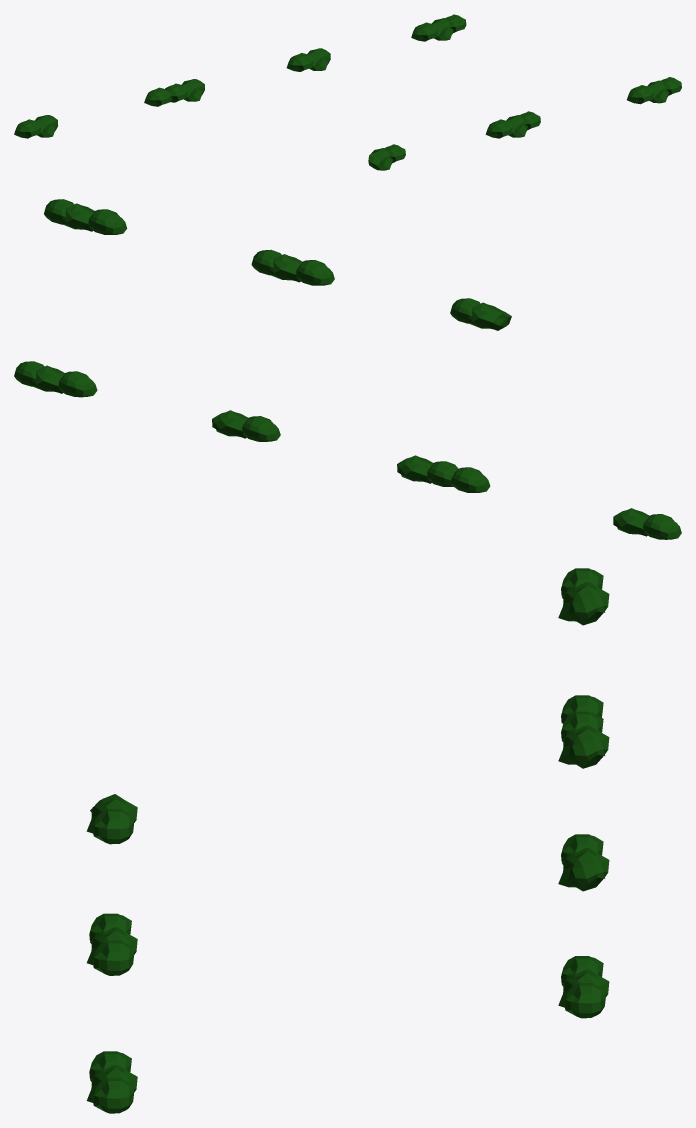
The model's file is arbustos.obj.
The picture shows the model from 3 angles, top to bottom: view 1: azimuth 30°, elevation 25°; view 2: azimuth 150°, elevation 25°; view 3: azimuth 270°, elevation 25°; orthographic projection. The views are drawn at different scales.
Parts seen in each view (by area): view 1: 139.014, 139.027, 139.023, 139.024, 139.025, 139.016, 139.029, 139.022, 139.026, 139.019, 139.021, 139.018 (+2 smaller); view 2: 139.014, 139.029, 139.016, 139.022, 139.019, 139.026, 139.025, 139.027, 139.024, 139.023, 139.018, 139.015 (+2 smaller); view 3: 139.024, 139.023, 139.027, 139.013, 139.017, 139.020, 139.012.
Boxes of the visible parts, x1,y1,x2,y2 form: 139.014: [368, 148, 392, 170]; 139.027: [181, 79, 204, 101]; 139.023: [34, 115, 57, 137]; 139.024: [307, 48, 330, 70]; 139.025: [286, 53, 313, 71]; 139.016: [485, 119, 512, 138]; 139.029: [144, 87, 171, 106]; 139.022: [411, 22, 437, 41]; 139.026: [14, 119, 40, 138]; 139.019: [627, 85, 653, 104]; 139.021: [431, 18, 453, 40]; 139.018: [647, 80, 668, 103]; 139.014: [465, 302, 511, 330]; 139.029: [450, 467, 490, 492]; 139.016: [296, 260, 334, 285]; 139.022: [59, 371, 97, 397]; 139.019: [88, 209, 127, 234]; 139.026: [643, 514, 681, 539]; 139.025: [242, 416, 280, 441]; 139.027: [397, 455, 432, 483]; 139.024: [212, 410, 247, 438]; 139.023: [613, 508, 649, 536]; 139.018: [59, 203, 94, 231]; 139.015: [266, 254, 302, 282]; 139.024: [558, 848, 609, 891]; 139.023: [558, 582, 609, 625]; 139.027: [558, 725, 609, 768]; 139.013: [93, 940, 134, 975]; 139.017: [93, 1078, 134, 1113]; 139.020: [564, 983, 606, 1018]; 139.012: [93, 809, 134, 844].
Bounding box in the file's own units: 5.15 × 0.1658 × 2.13.
